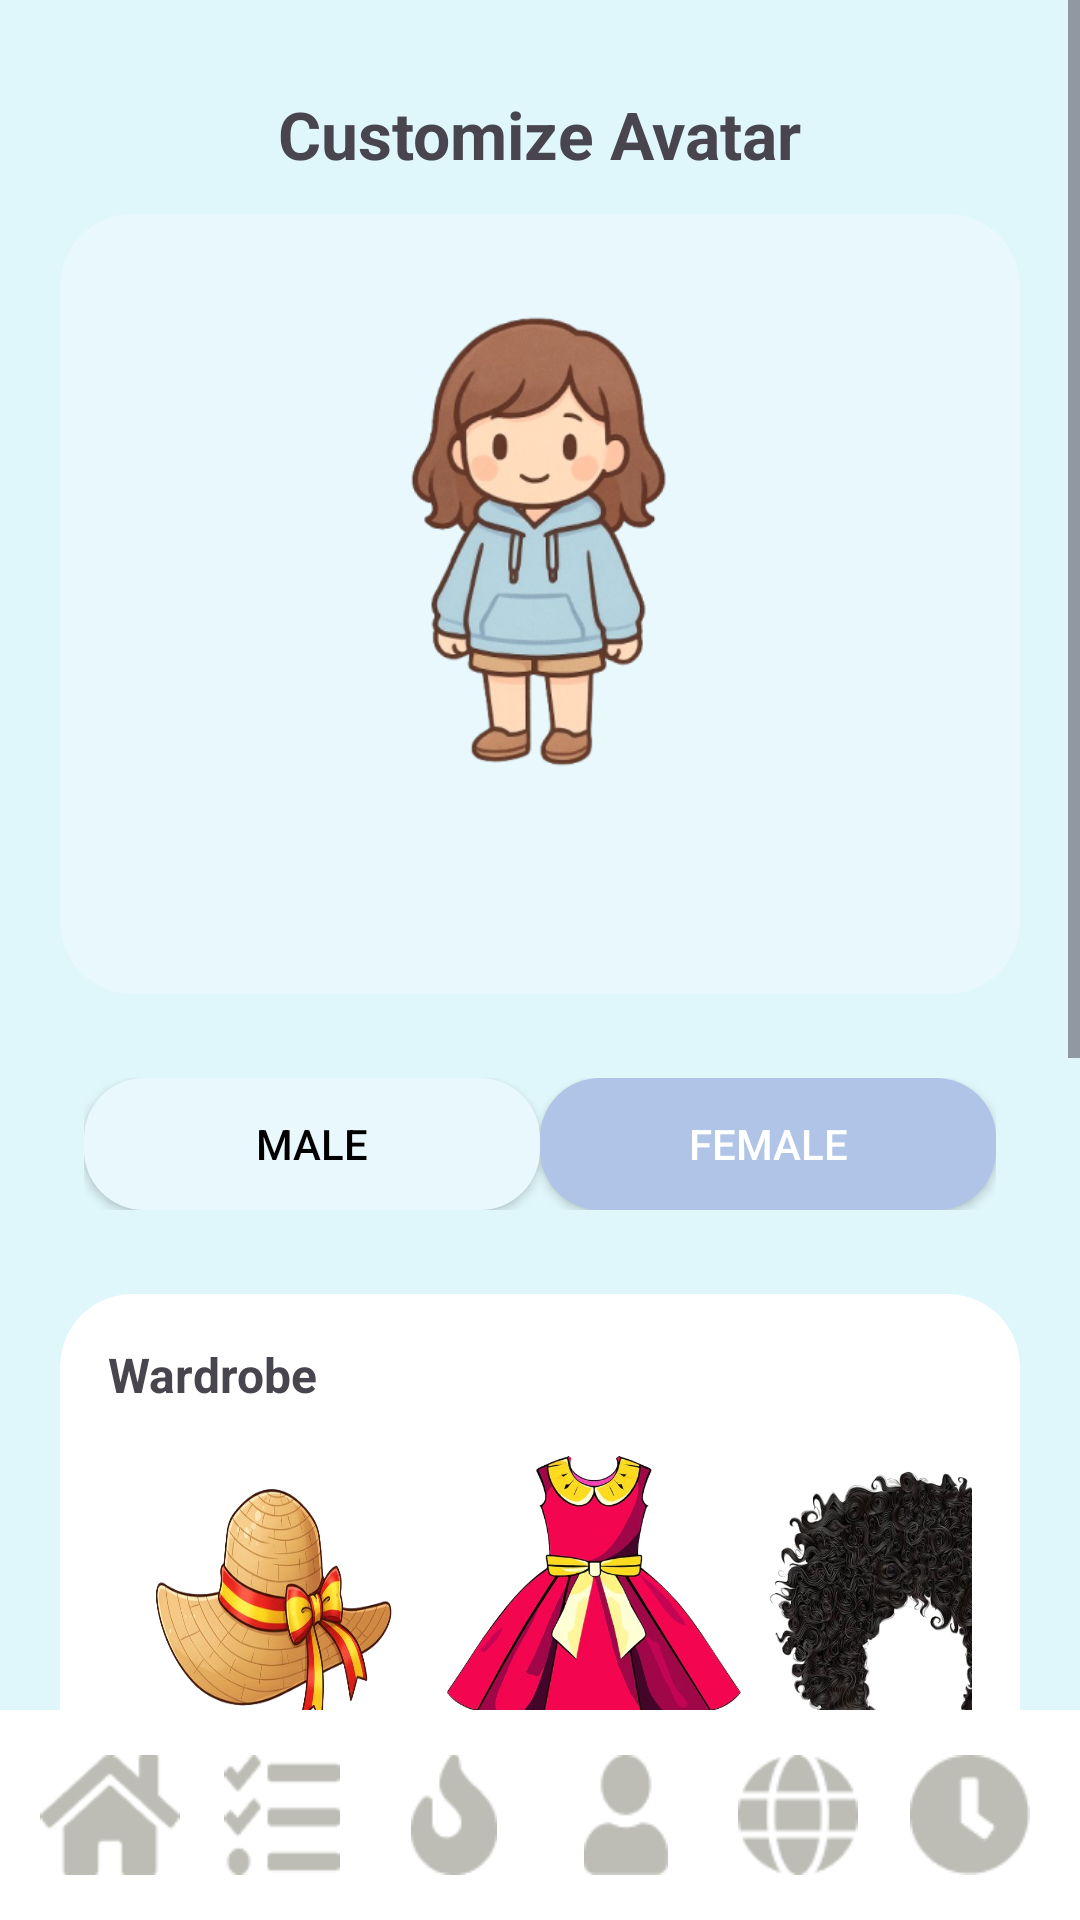

Icon click points for this 1080x1920 phone screenshot, format [x,y]:
community: [798,1815]
home: [110,1815]
profile: [626,1815]
streaks: [454,1815]
tasks: [282,1815]
timer: [970,1815]
